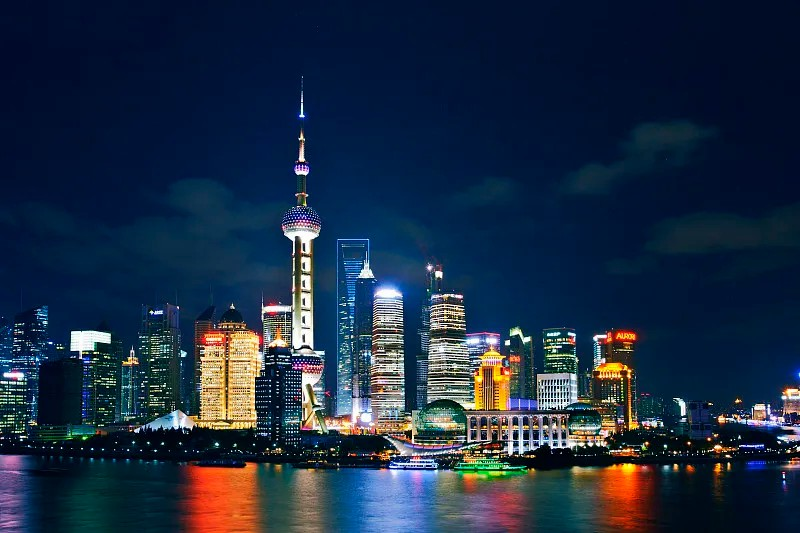Oriental: (281, 74, 329, 433)
